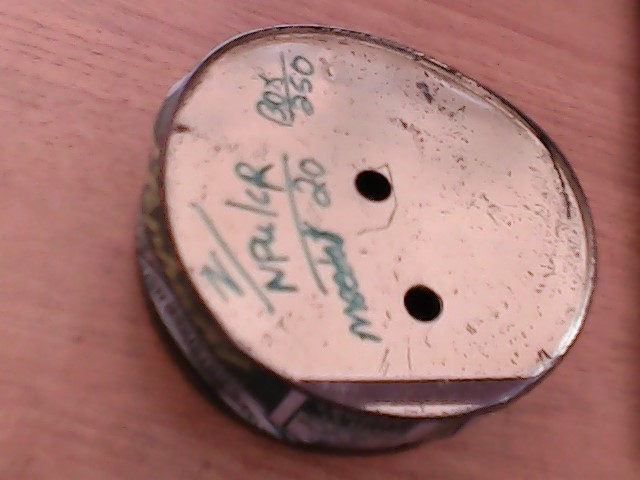Metal: (124, 19, 640, 480)
